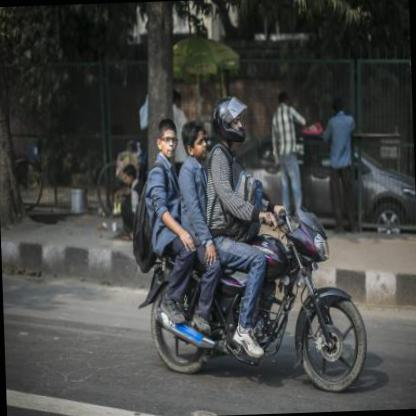motorcycle: (132, 180, 372, 394)
